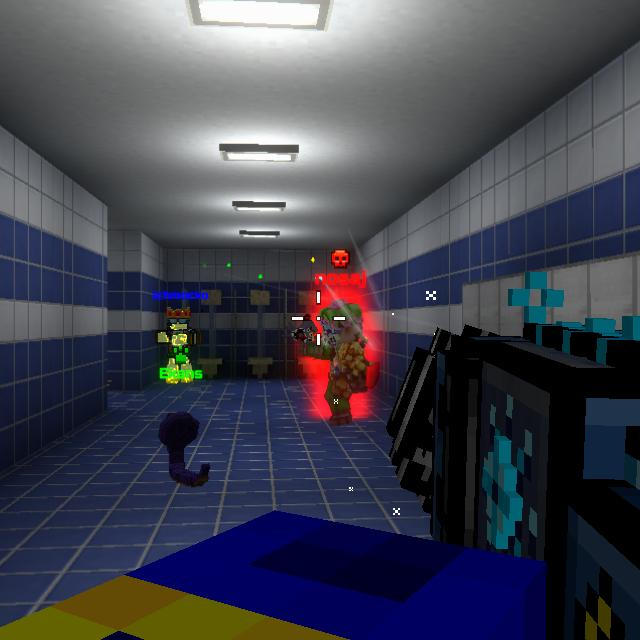Enemy: (301, 299, 376, 423)
